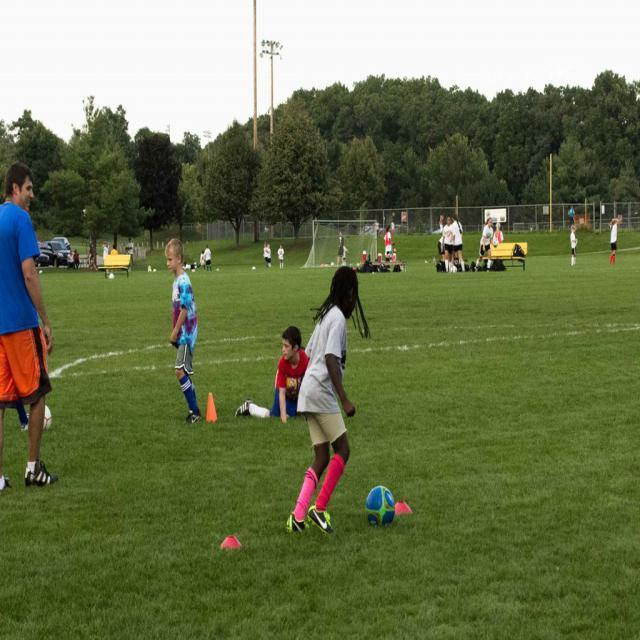football: (356, 485, 417, 528)
